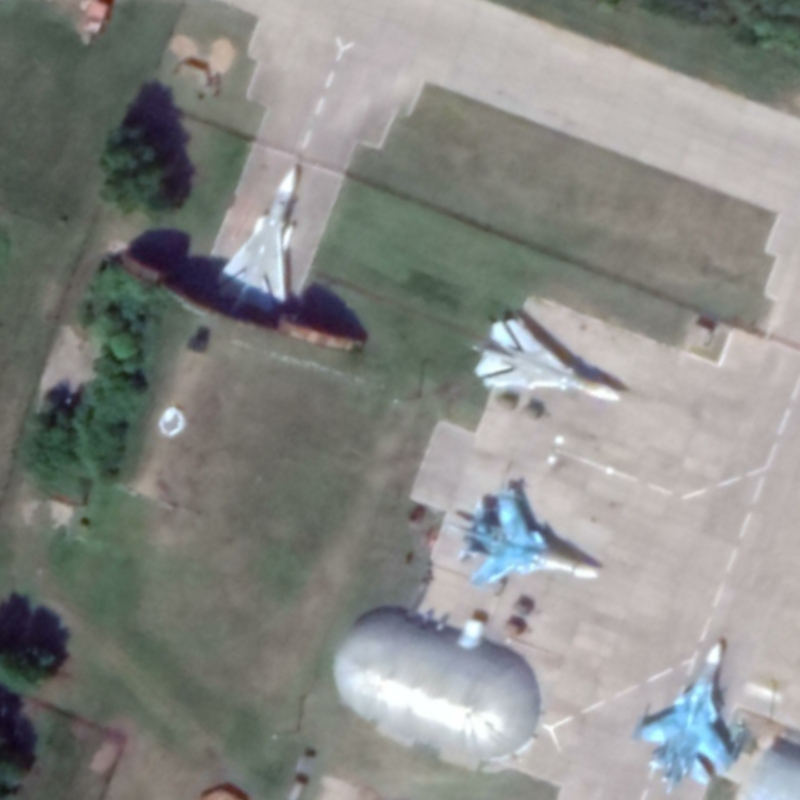A19: (629, 640, 749, 798), (445, 488, 601, 591)
A20: (472, 317, 625, 404), (214, 165, 300, 314)
